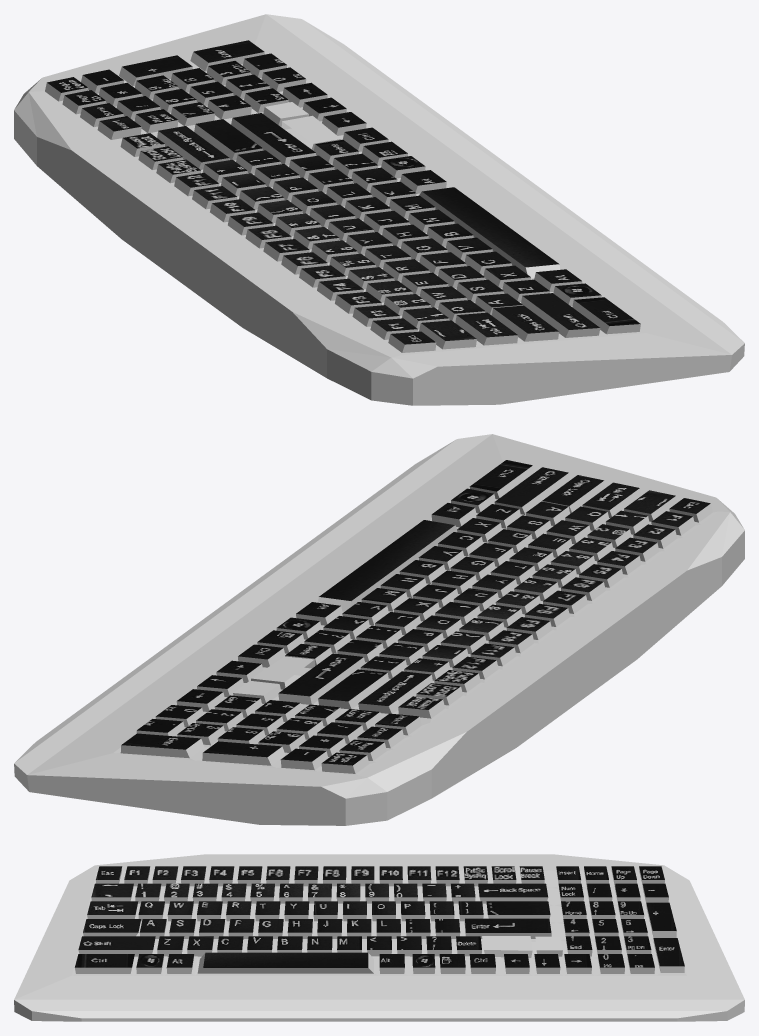
Rendered from Keyboard2.fbx.
3 views of the same model, one above another, from view 1: azimuth 30°, elevation 25°; view 2: azimuth 150°, elevation 25°; view 3: azimuth 270°, elevation 25° (orthographic). The views are drawn at different scales.
Visible parts, largest first — view 1: Cube; view 2: Cube; view 3: Cube.
Boxes of the visible parts, bbox=[...] form: Cube: bbox=[14, 14, 744, 405]; Cube: bbox=[14, 434, 744, 825]; Cube: bbox=[14, 854, 744, 1021].
Size of the model in its own units: 262 by 41.88 by 602.
3 materials, 1 textured.
